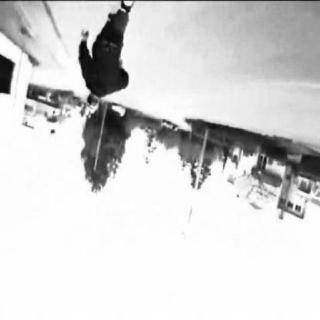other: (113, 86, 199, 116), (32, 67, 74, 95)
